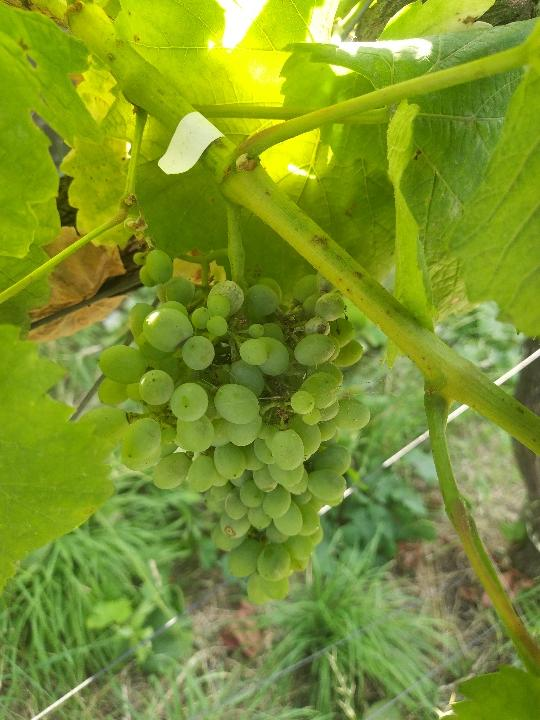grape: (78, 247, 377, 613)
